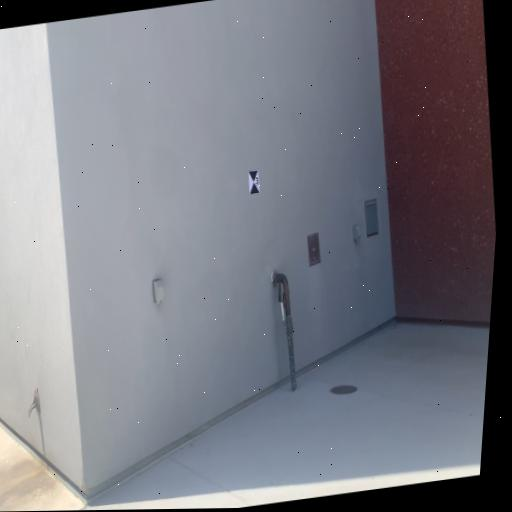target3: (248, 169, 260, 196)
